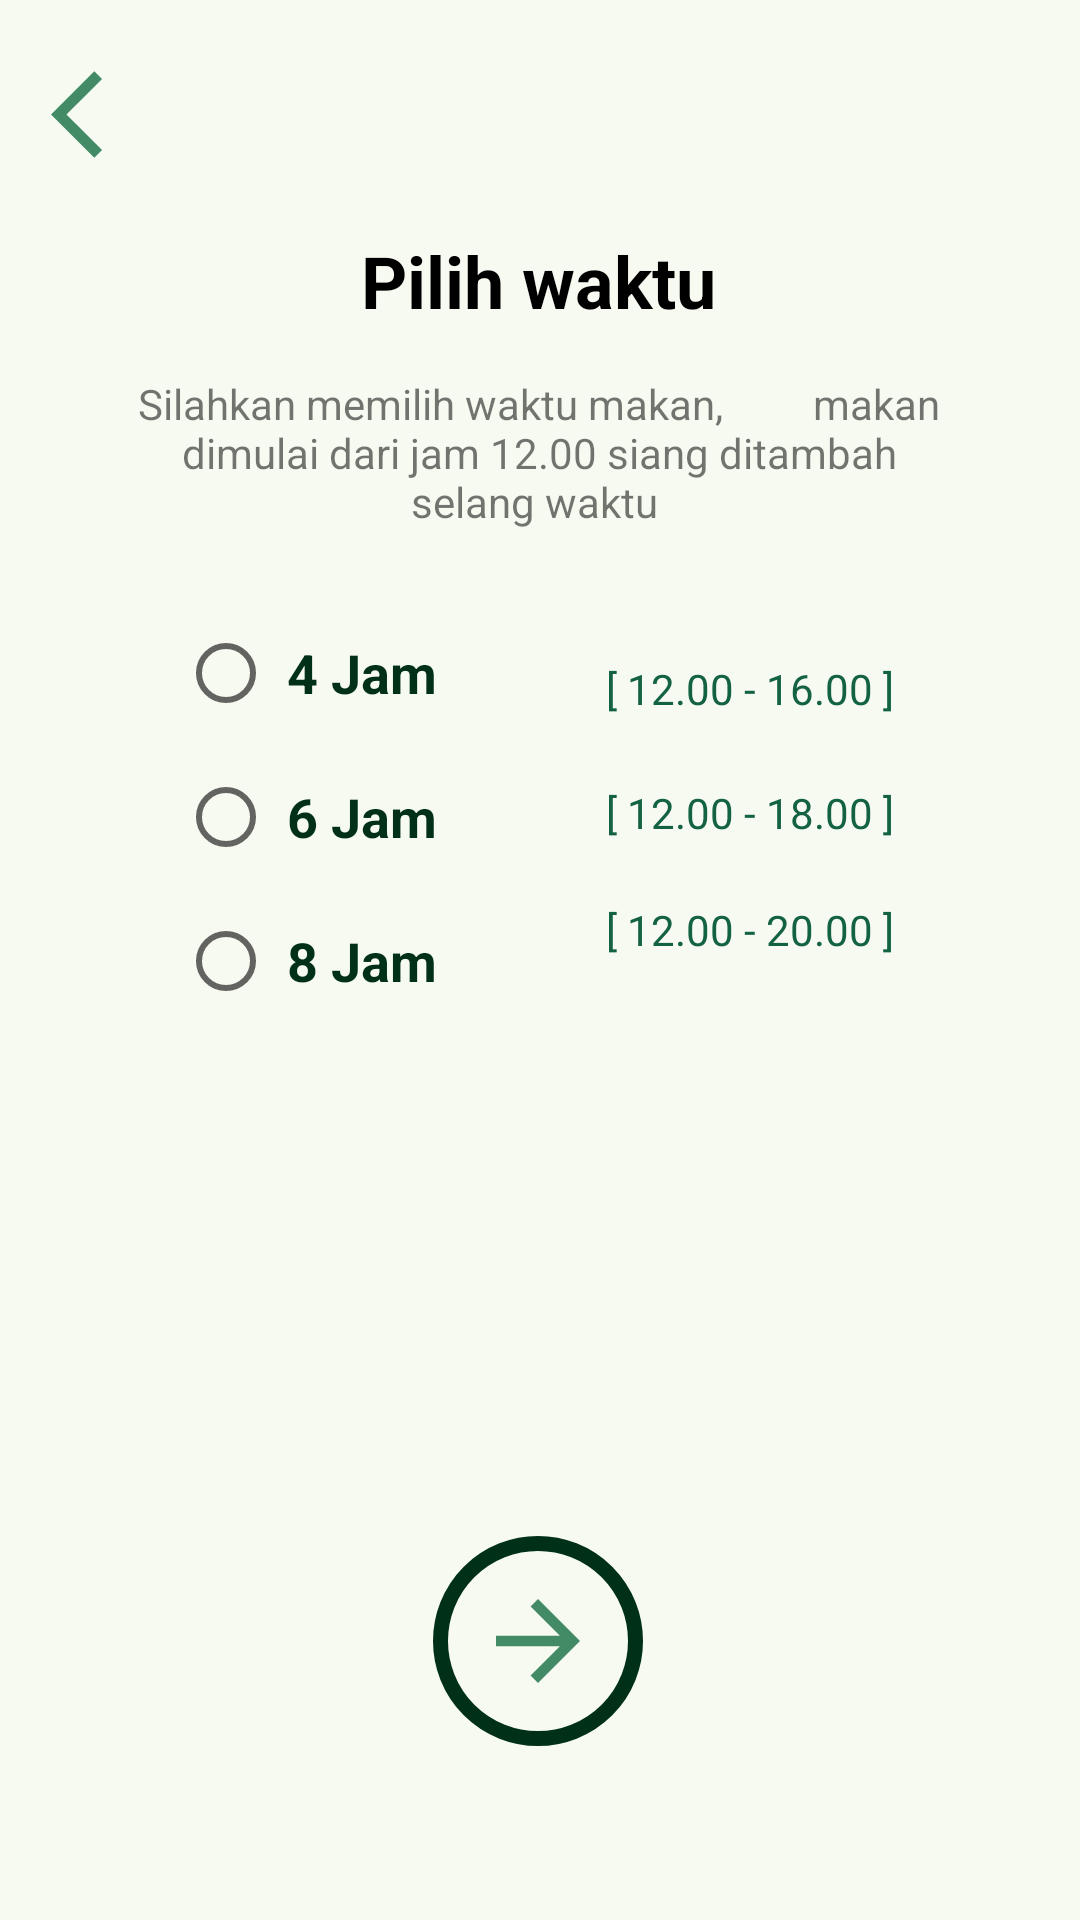

Icon bounding boxes for this 1080x1920 phone screenshot, format bbox=(x1, y1, x2, y2):
back: bbox=(51, 71, 102, 158)
next: bbox=(433, 1536, 643, 1746)
